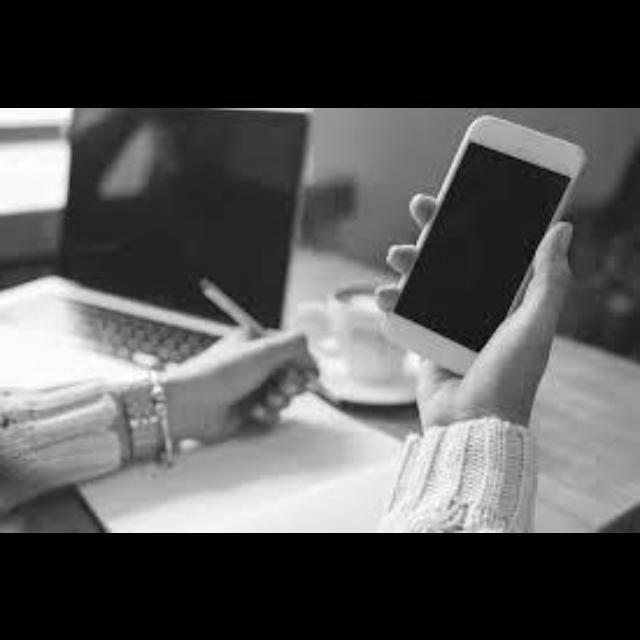fake: (400, 142, 560, 356)
